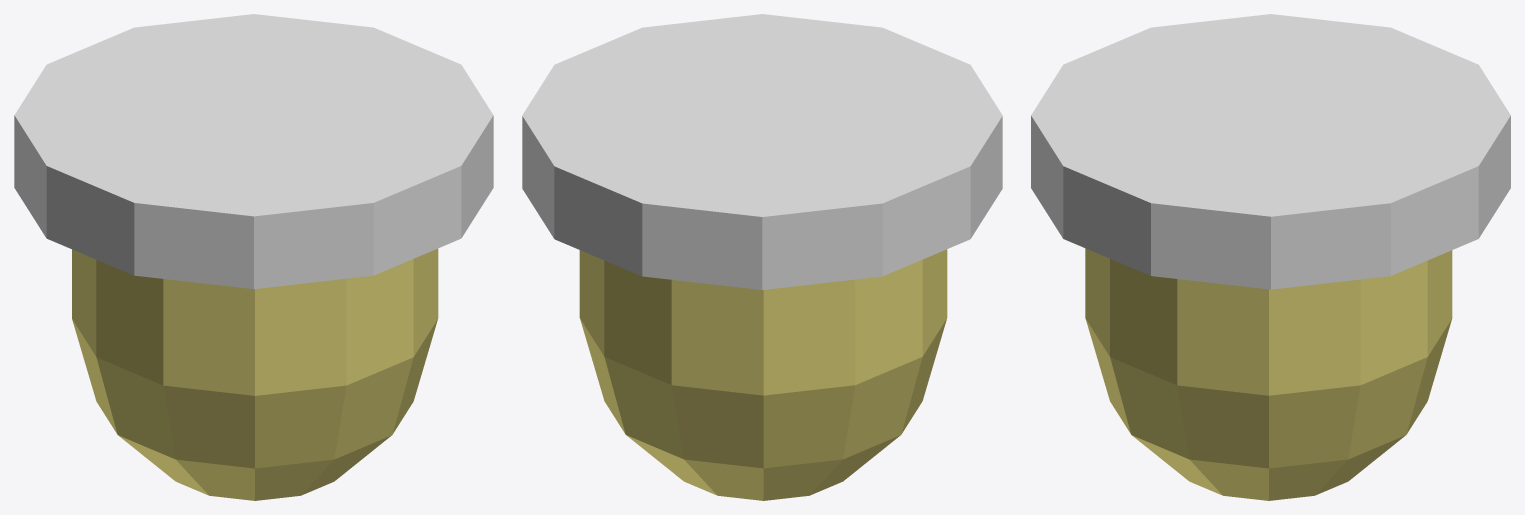
The model's file is Cockpit_Light.glb.
The picture shows the model from 3 angles, left to right: view 1: azimuth 30°, elevation 25°; view 2: azimuth 150°, elevation 25°; view 3: azimuth 270°, elevation 25°; orthographic projection.
Visible parts, largest first — view 1: Cylinder; view 2: Cylinder; view 3: Cylinder.
Boxes of the visible parts, x1,y1,x2,y2 form: Cylinder: [14, 14, 493, 500]; Cylinder: [522, 14, 1002, 500]; Cylinder: [1031, 14, 1510, 500].
Bounding box in the file's own units: 0.2 × 0.1698 × 0.2.
